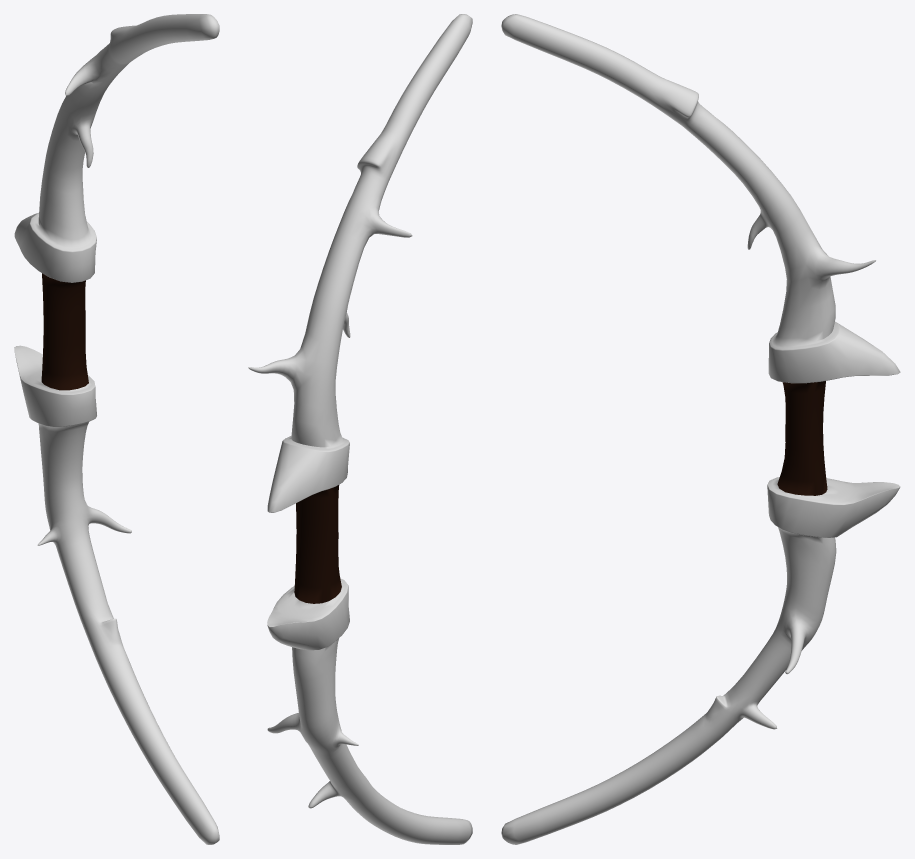
File: Bow.fbx
3 renders of one model, left to right at view 1: azimuth 30°, elevation 25°; view 2: azimuth 150°, elevation 25°; view 3: azimuth 270°, elevation 25°, orthographic.
Visible parts, largest first — view 1: Bow; view 2: Bow; view 3: Bow.
Boxes of the visible parts, x1,y1,x2,y2 form: Bow: (14,14,219,844); Bow: (248,14,472,844); Bow: (501,14,900,844).
Bounding box in the file's own units: 18.74 × 141 × 61.31.
